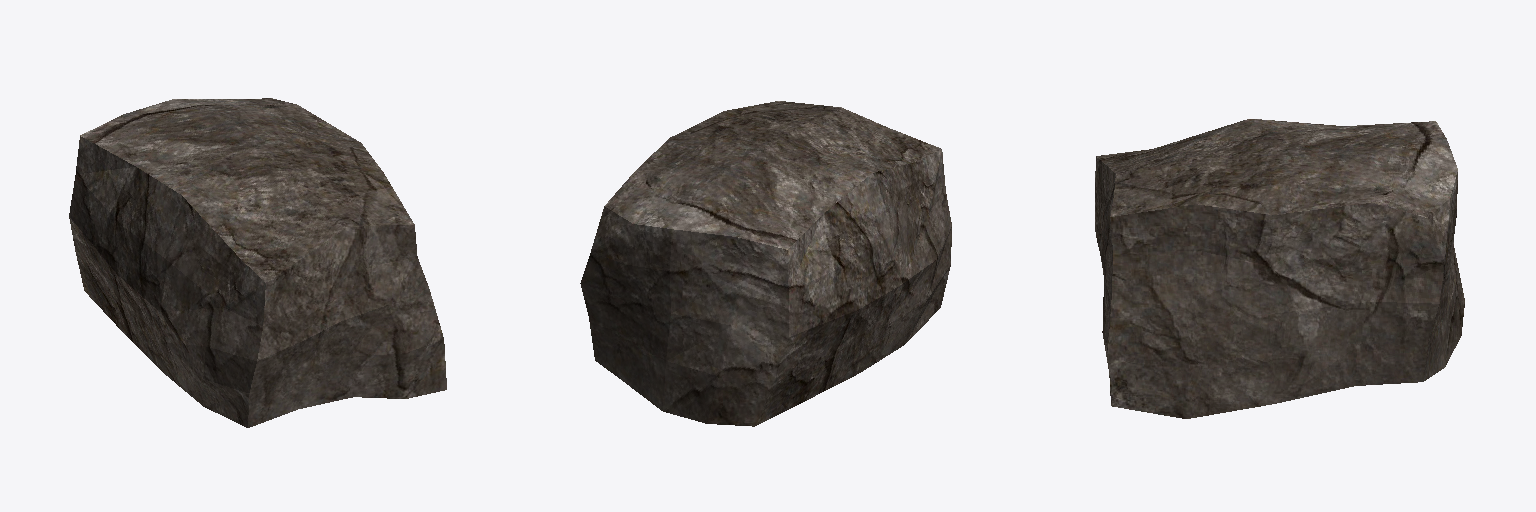
3 renders of one model, left to right at view 1: azimuth 30°, elevation 25°; view 2: azimuth 150°, elevation 25°; view 3: azimuth 270°, elevation 25°, orthographic.
Visible parts, largest first — view 1: Rock_3_Cube.001; view 2: Rock_3_Cube.001; view 3: Rock_3_Cube.001.
Boxes of the visible parts, <box> form: Rock_3_Cube.001: <box>69,98,446,427</box>; Rock_3_Cube.001: <box>580,101,951,426</box>; Rock_3_Cube.001: <box>1095,119,1464,418</box>.
Size of the model in its own units: 1.59 by 1.42 by 2.23.
1 materials, 1 textured.